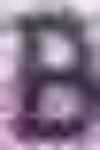B: (0, 0, 99, 149)
